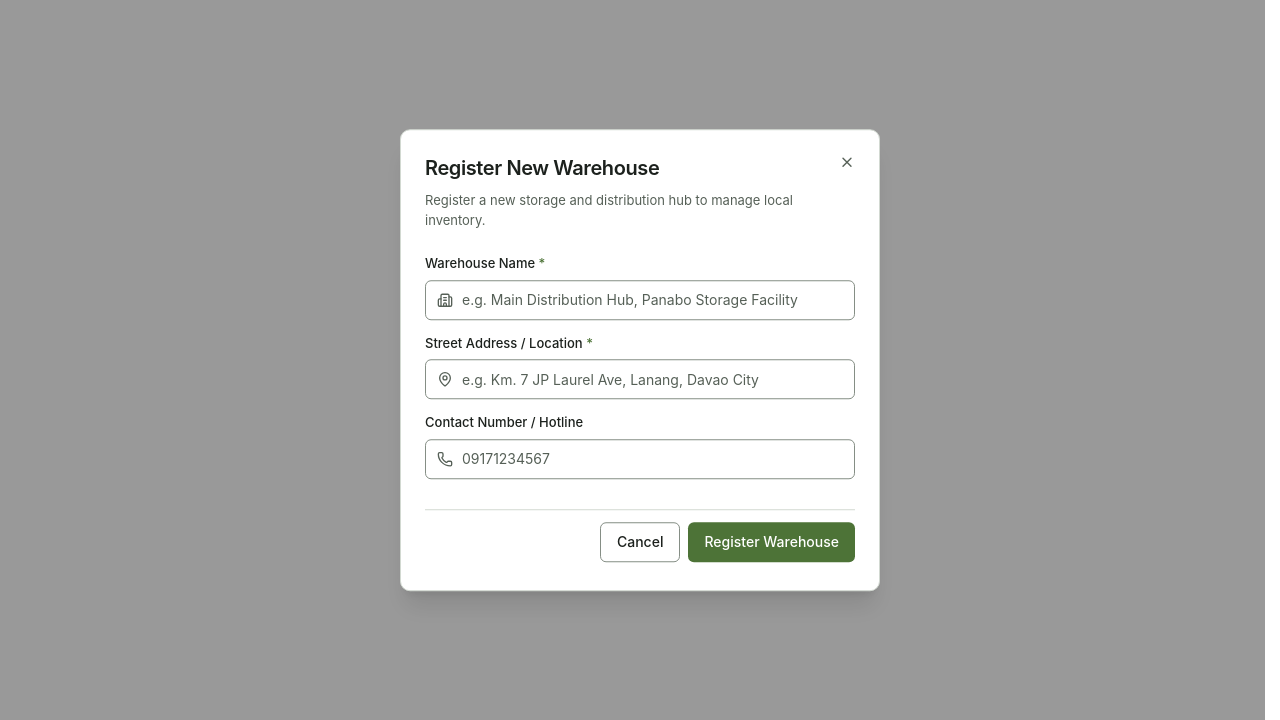
it: keeps warehouse lookup authorization errors visible without creating a record
This screenshot has width=1280, height=720.
In the field labelled "Warehouse Name *": (640, 300) [425,280,855,320], type "New Warehouse"
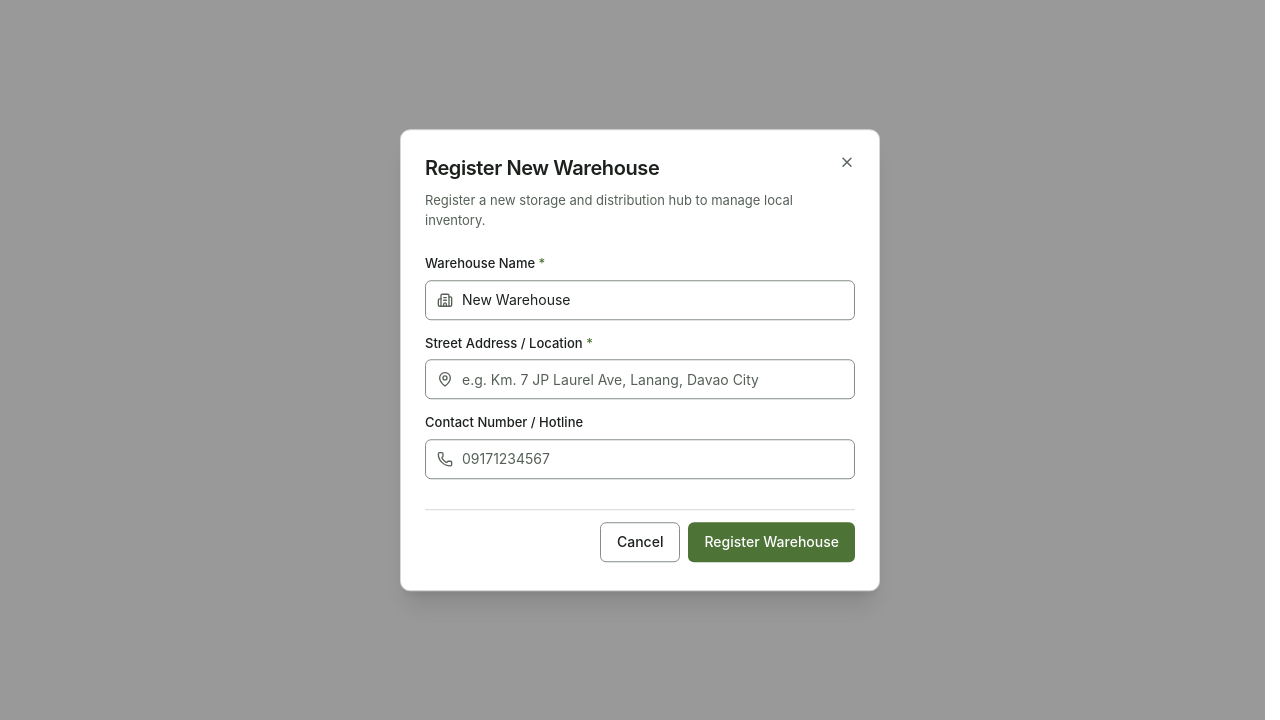
In the field labelled "Street Address / Location *": (640, 379) [425,359,855,399], type "Davao"
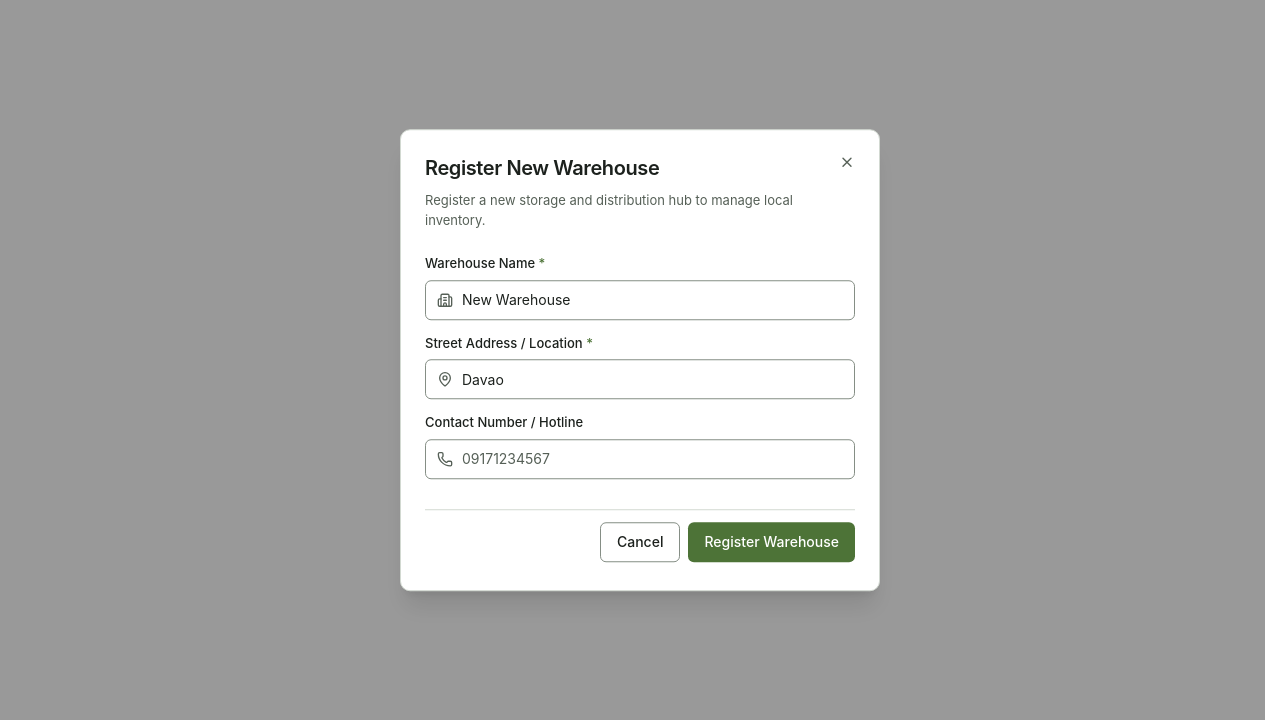
Submit the form named "Register Warehouse", box [425,250,855,566]
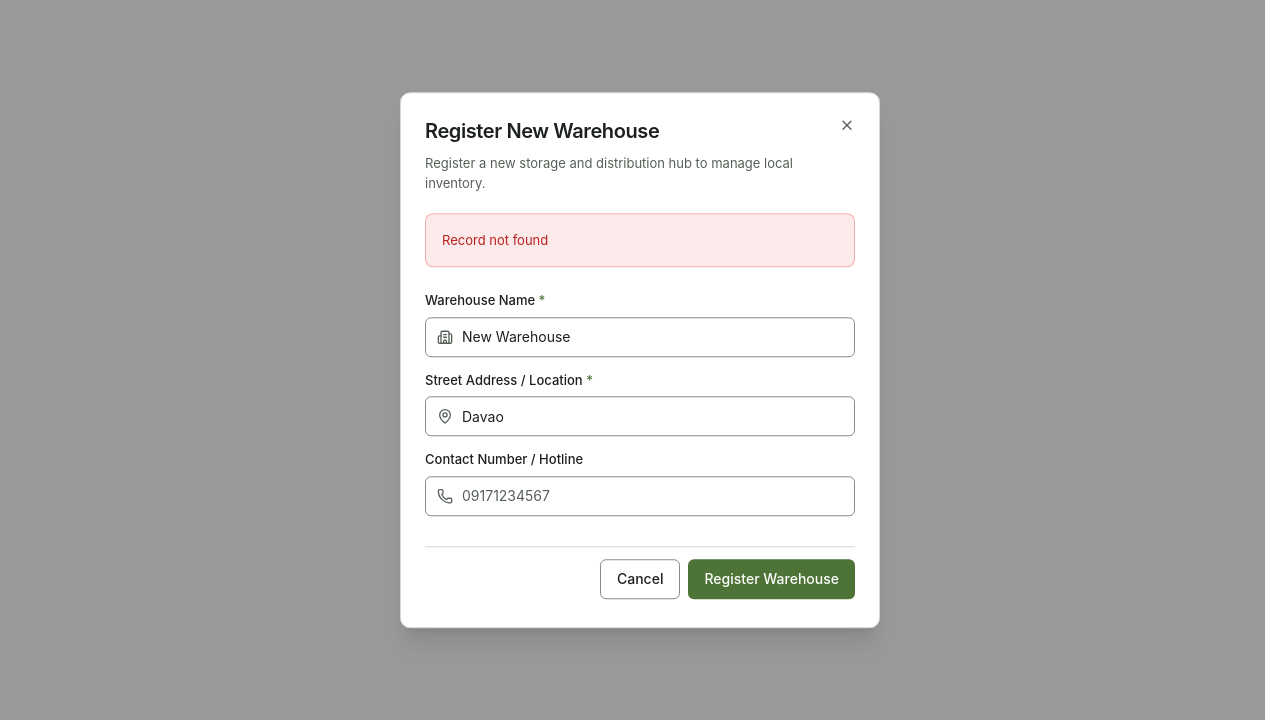
Expected: the message "Record not found" is shown, [425,213,855,267]
